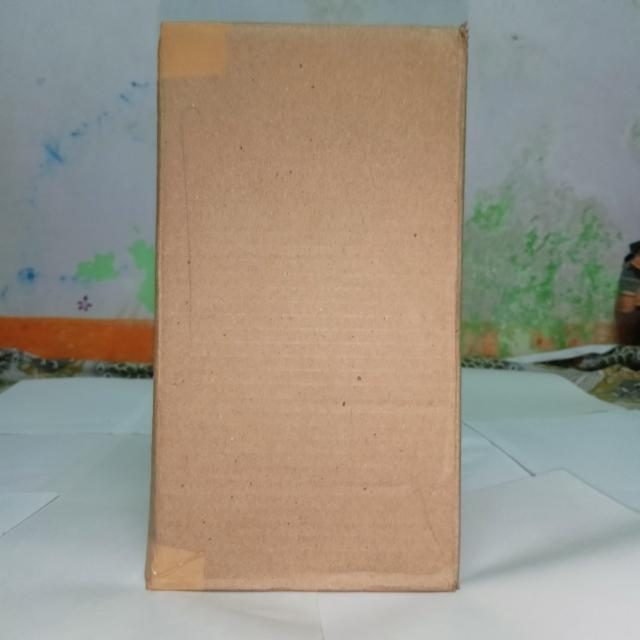box: (144, 22, 470, 597)
